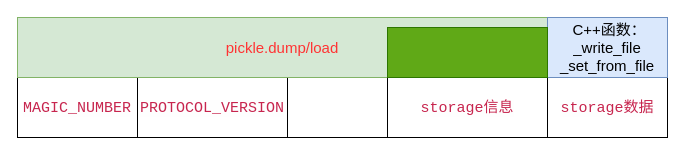
The diagram is 685 pixels wide and 155 high, and some of its shapes have lost their labels. The shapes that lost their labels are listed below. From the top down, each one's centre as x and y in pixels, then its label:
(467,52): save : persistent_id load : persistent_load
(337,107): sys_info
